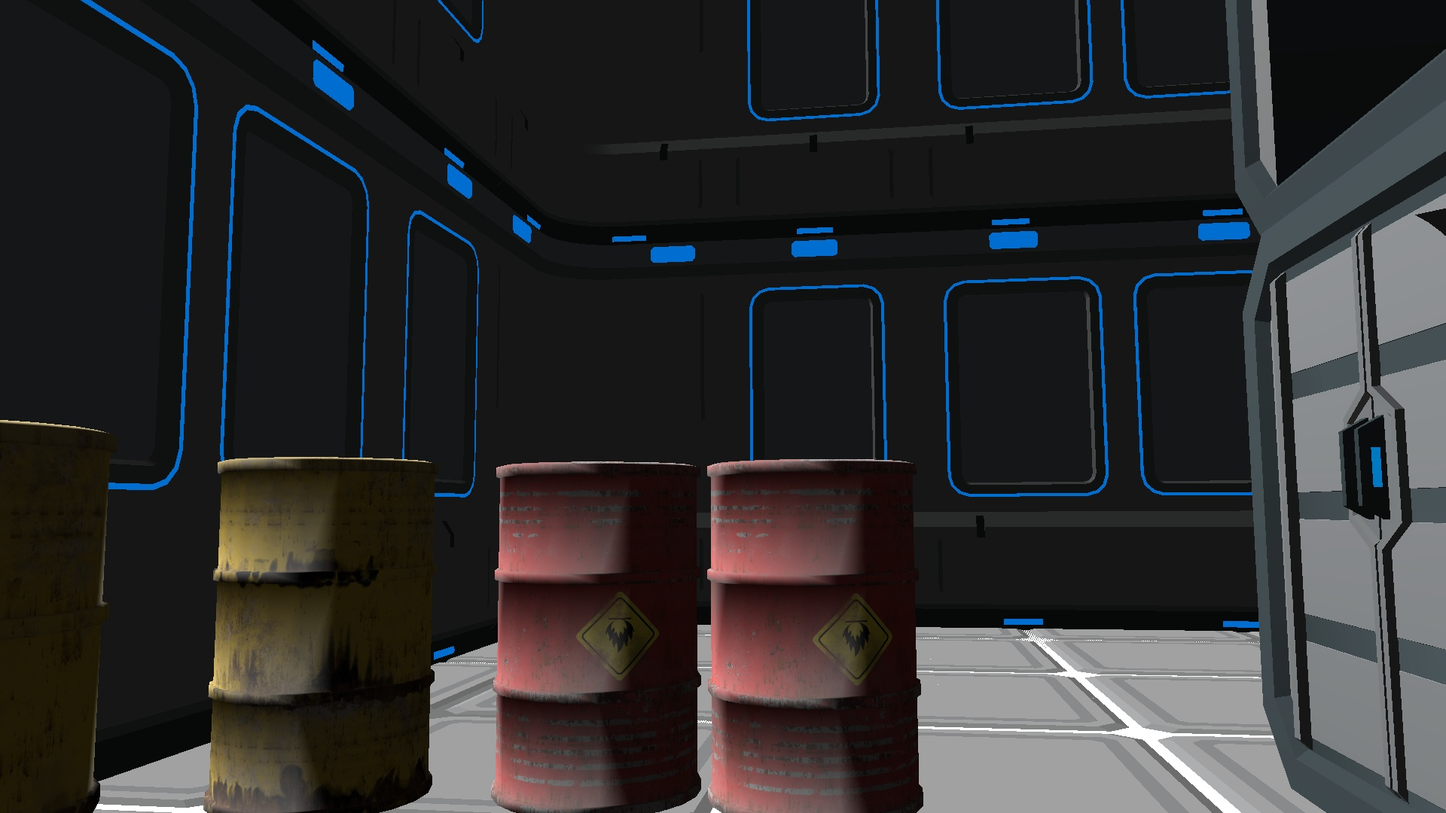toxic barrel: (203, 457, 435, 813), (706, 458, 924, 813), (491, 462, 702, 813), (0, 419, 121, 813)
